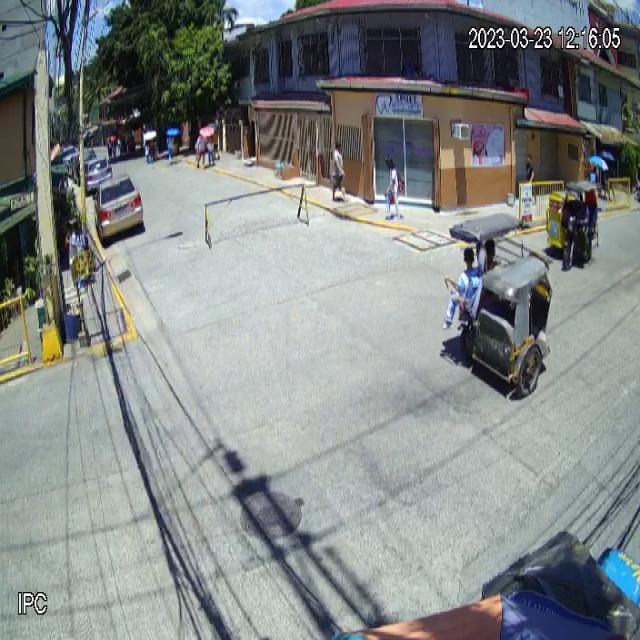Car: (93, 172, 144, 244)
Tricycle: (444, 211, 552, 400), (540, 182, 594, 272)
